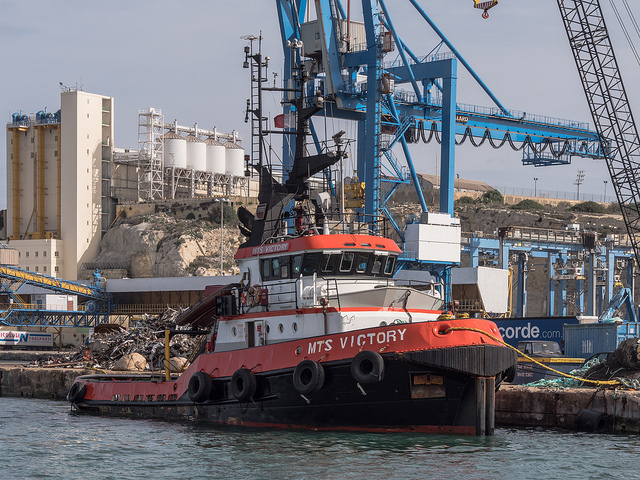tug_boat: (66, 187, 519, 437)
